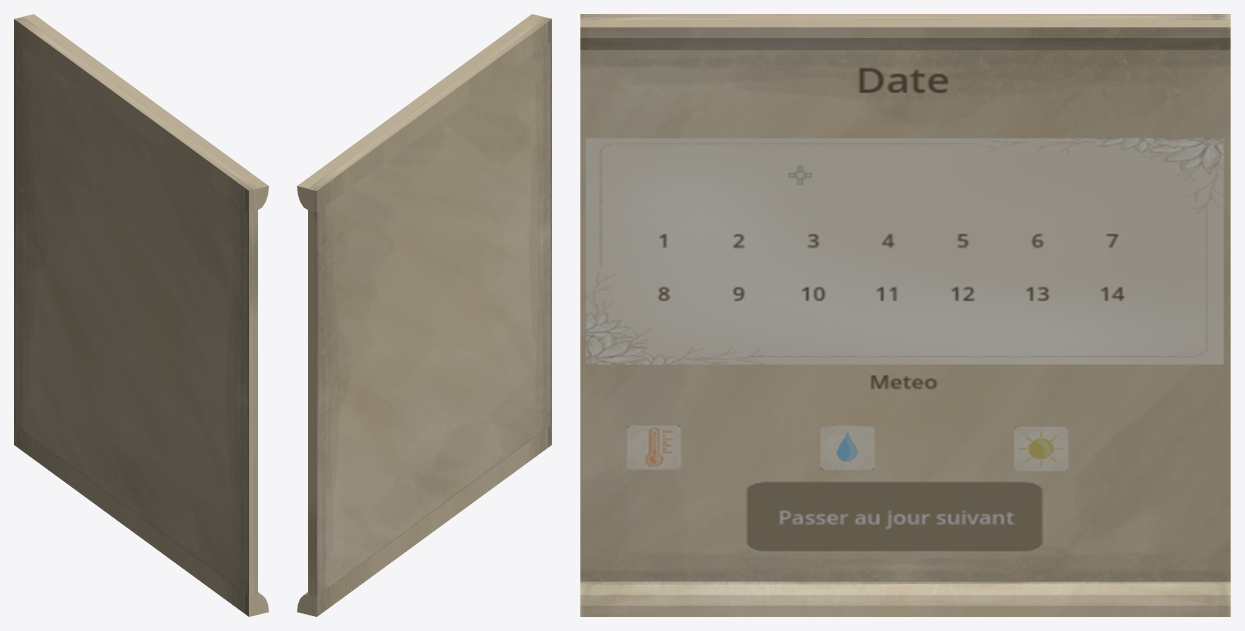
File: calendrier.glb
The picture shows the model from 3 angles, left to right: view 1: azimuth 30°, elevation 25°; view 2: azimuth 150°, elevation 25°; view 3: azimuth 270°, elevation 25°; orthographic projection. The views are drawn at different scales.
Parts seen in each view (by area): view 1: Cube; view 2: Cube; view 3: Cube.
Part boxes in pixels (left/top/right/bottom): Cube: left=14, top=14, right=268, bottom=616; Cube: left=297, top=14, right=551, bottom=616; Cube: left=580, top=14, right=1230, bottom=616.
Bounding box in the file's own units: 0.022 × 0.45 × 0.45.
Materials: 2 (2 with a texture image).
